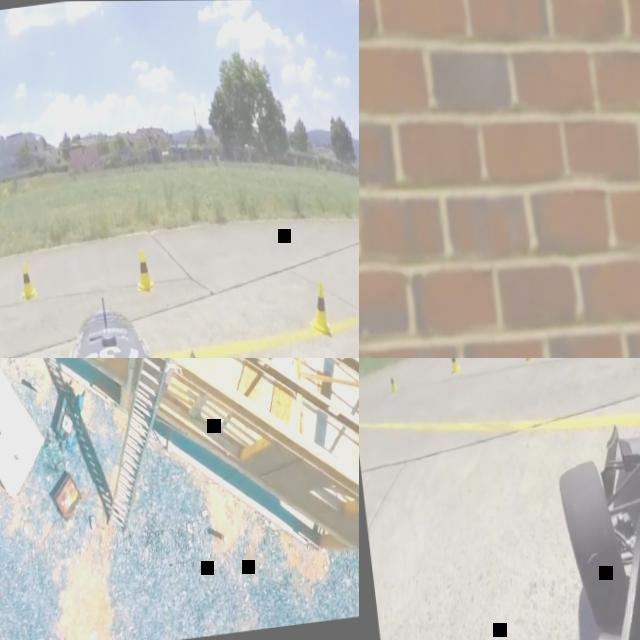person: (481, 0, 640, 358)
safety_cone: (304, 279, 335, 334), (133, 250, 158, 296), (17, 256, 40, 303), (388, 368, 402, 398), (448, 358, 463, 377)
vehicle: (527, 358, 640, 640), (0, 270, 307, 358)
